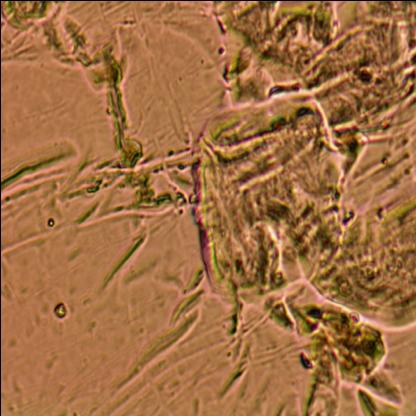Normal: (172, 0, 416, 416)
